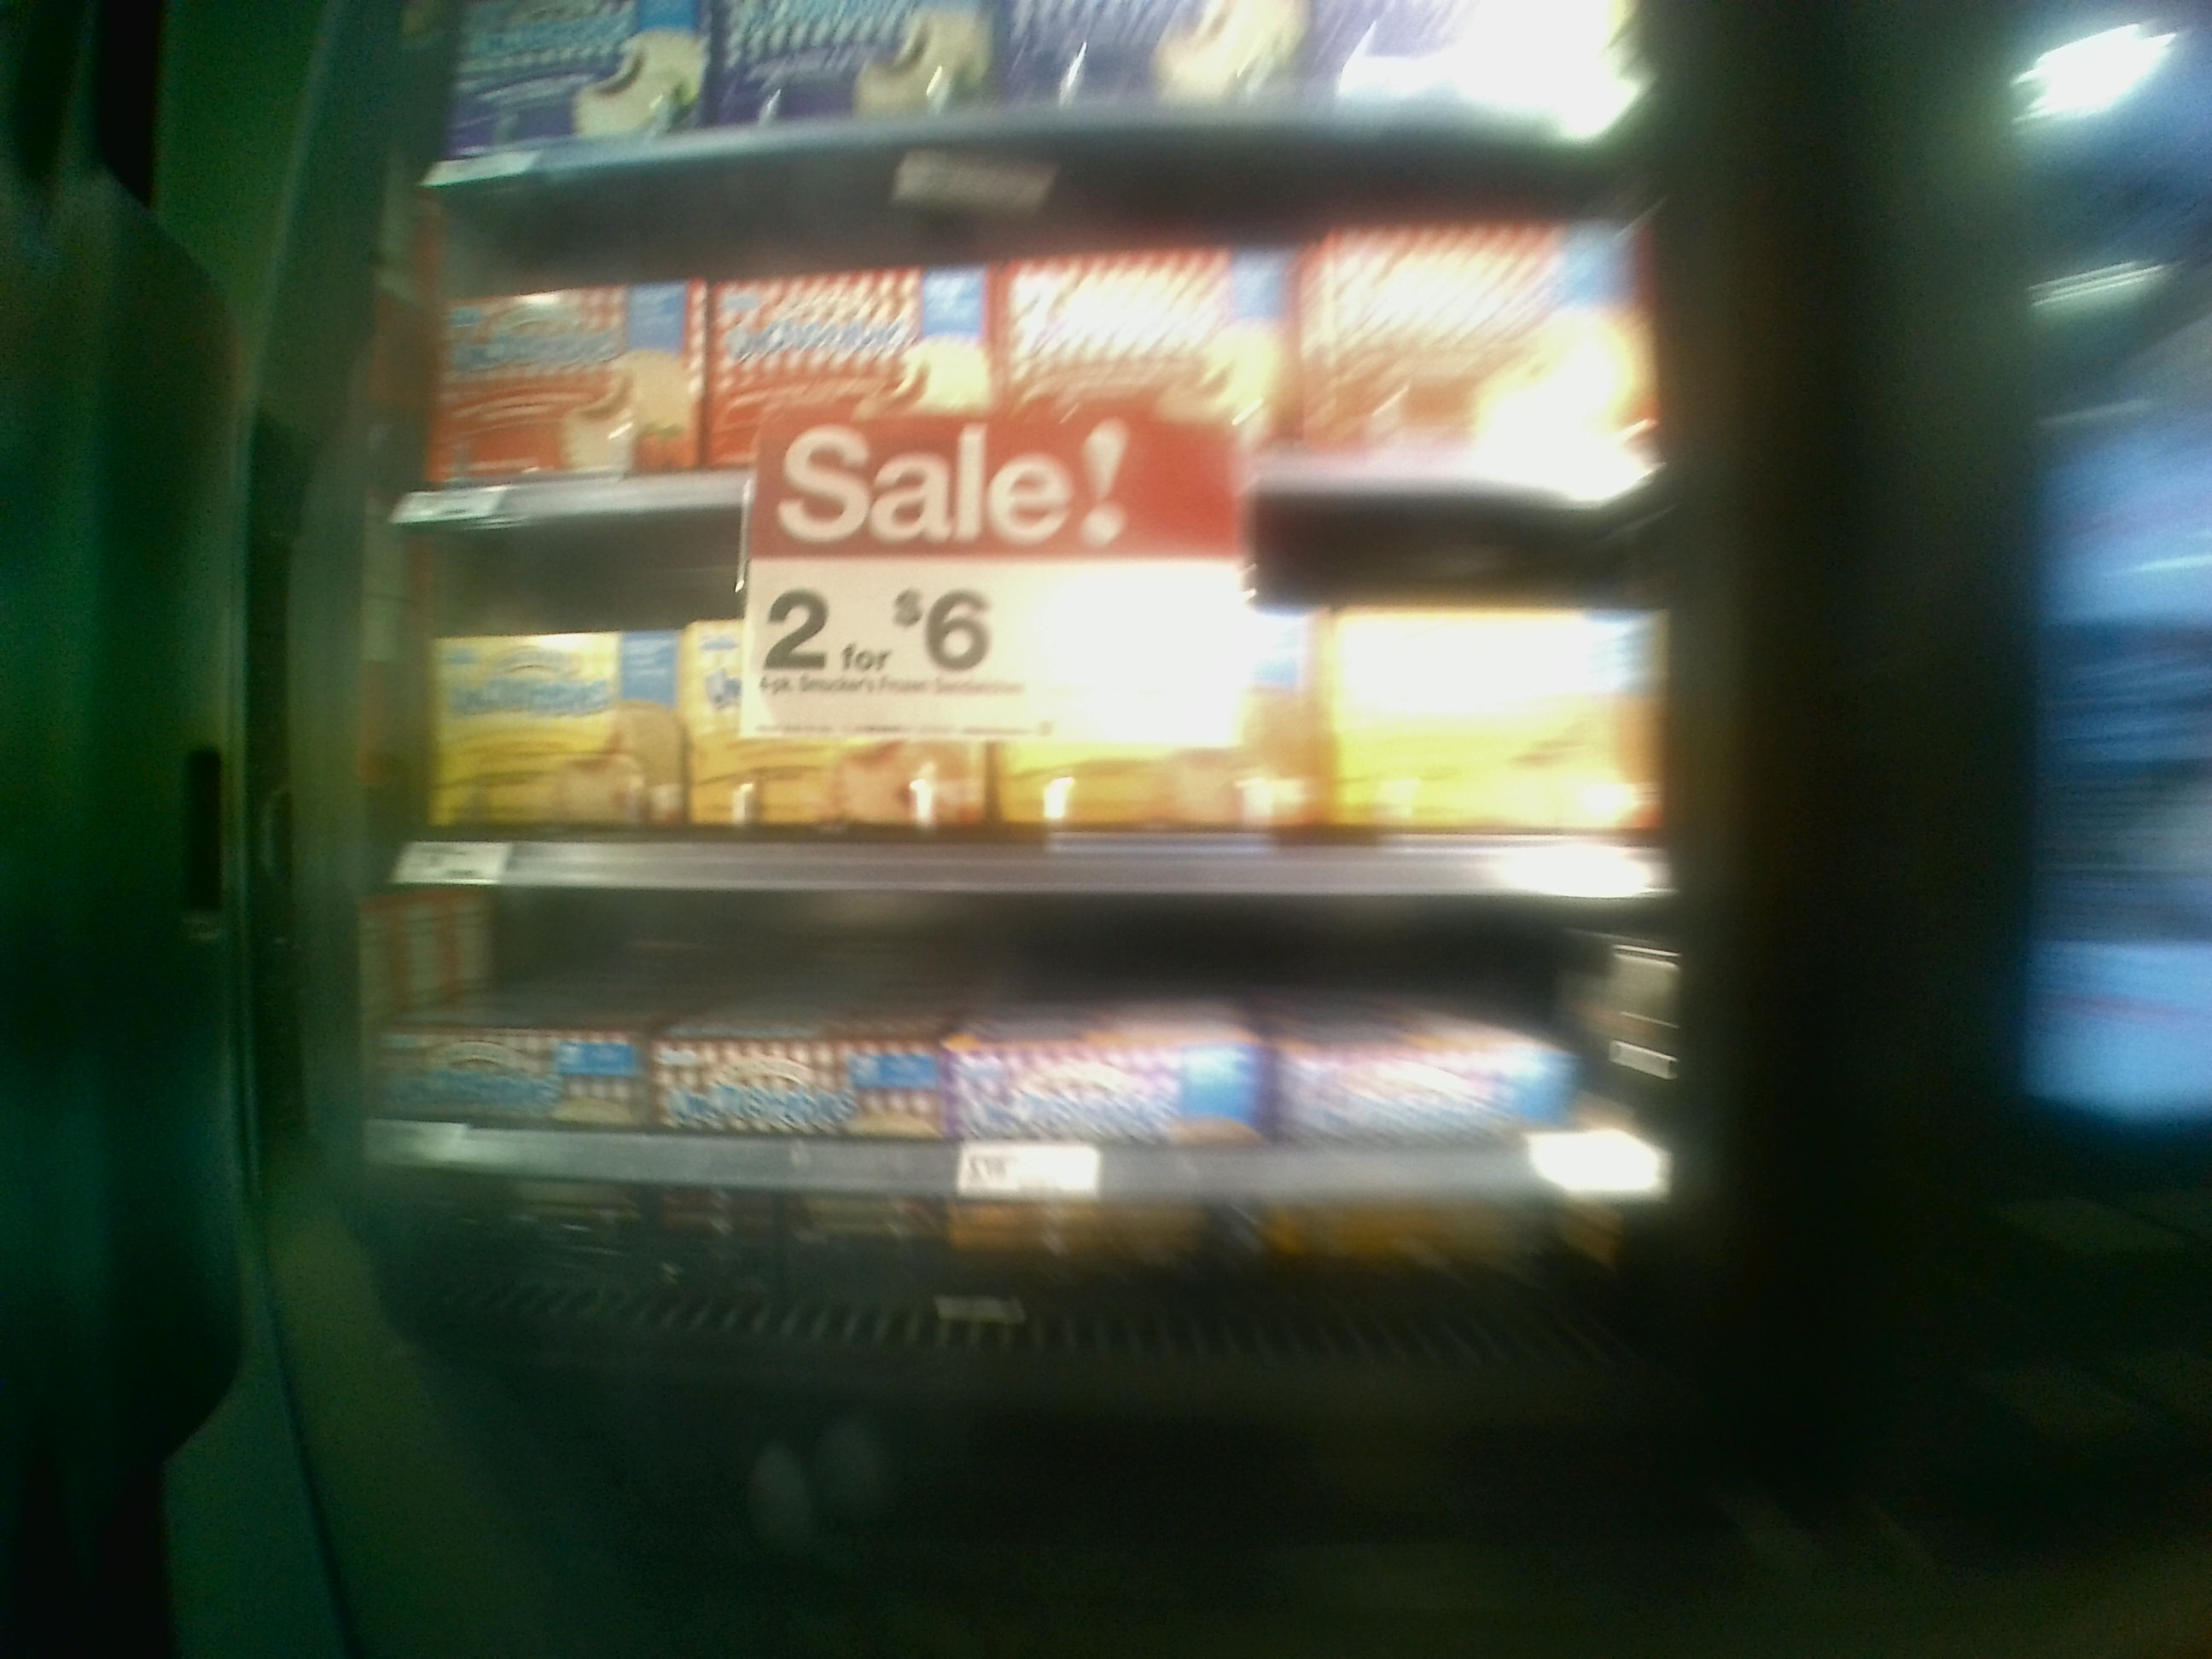shelf: (399, 505, 1676, 889), (369, 878, 1695, 1194)
